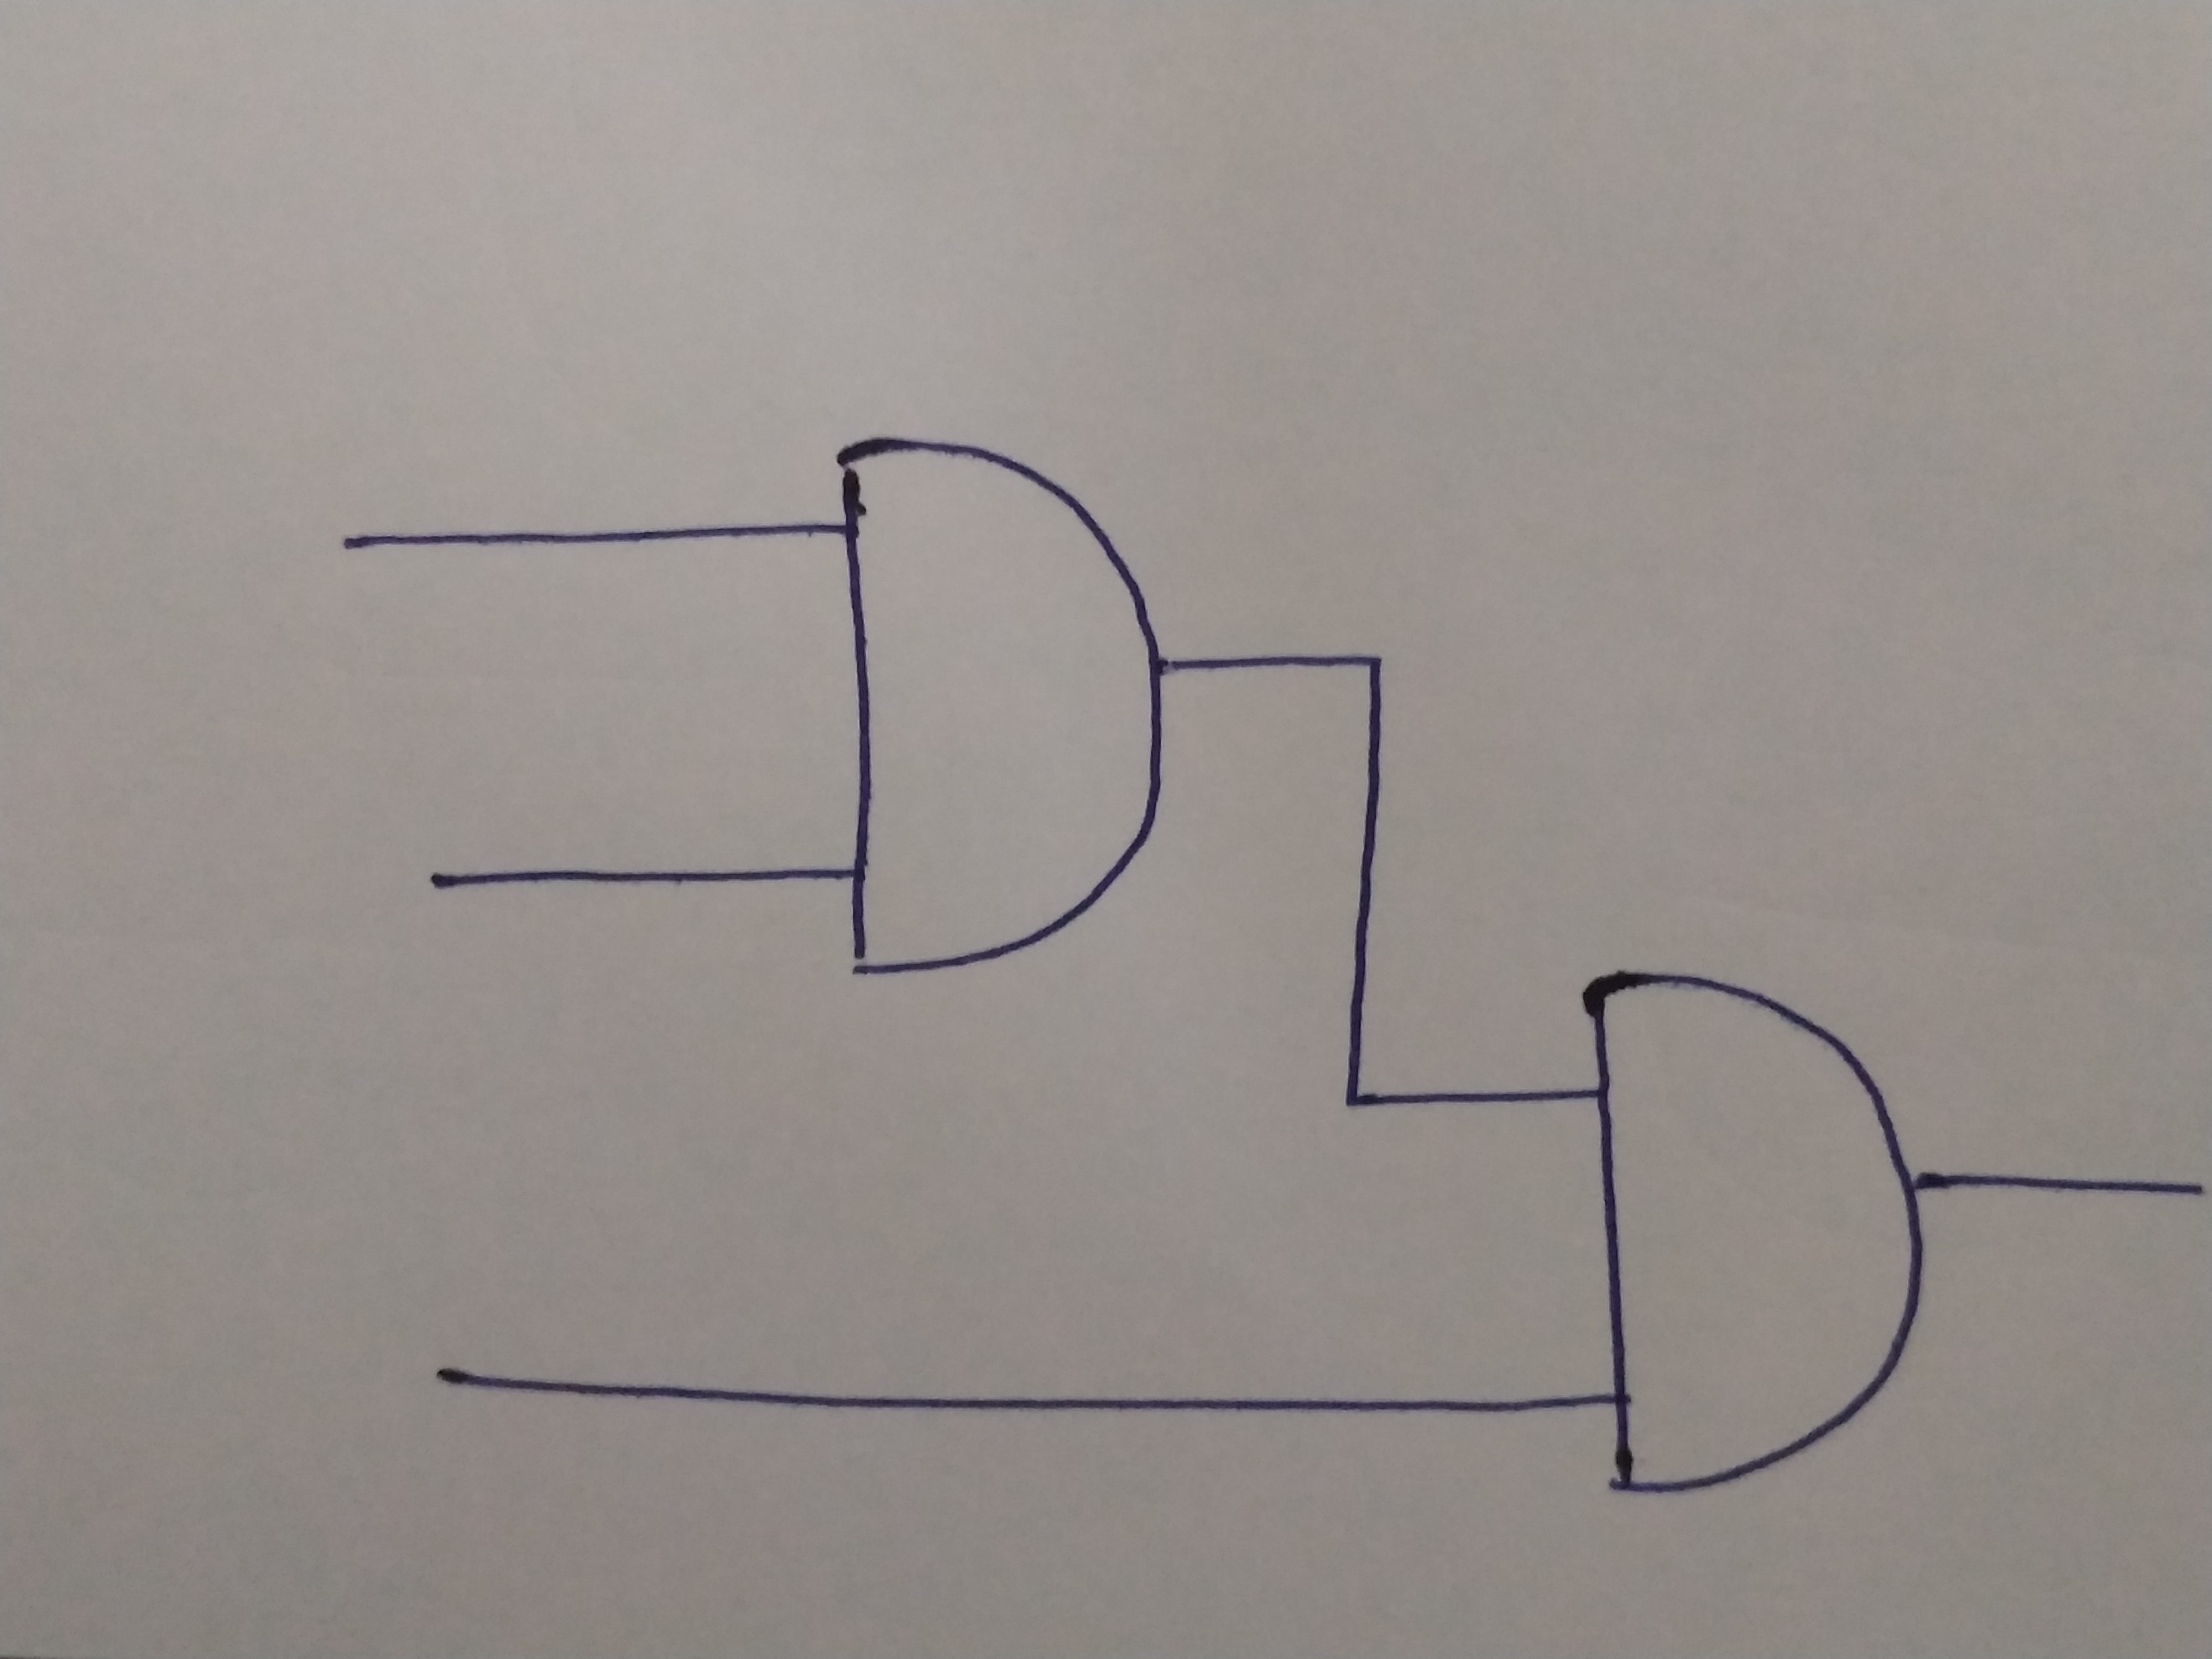and: (833, 437, 1162, 985), (1597, 969, 1926, 1497)
